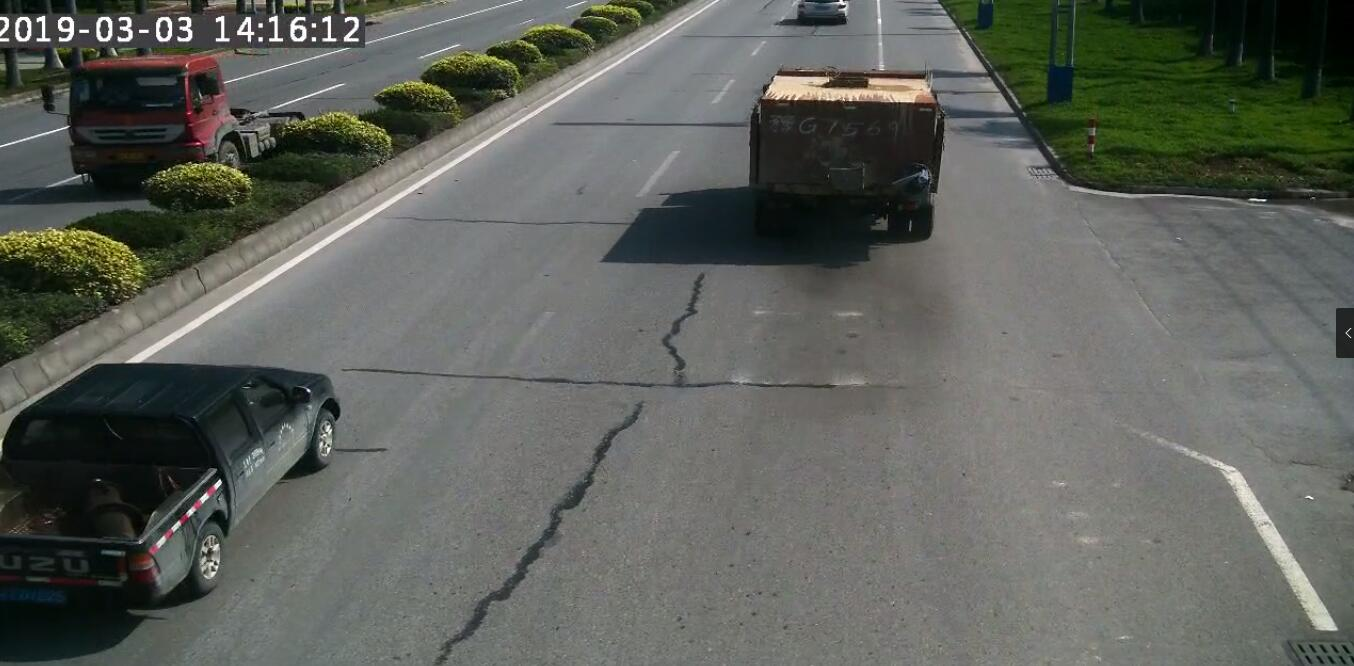yanwu: (800, 218, 939, 303)
